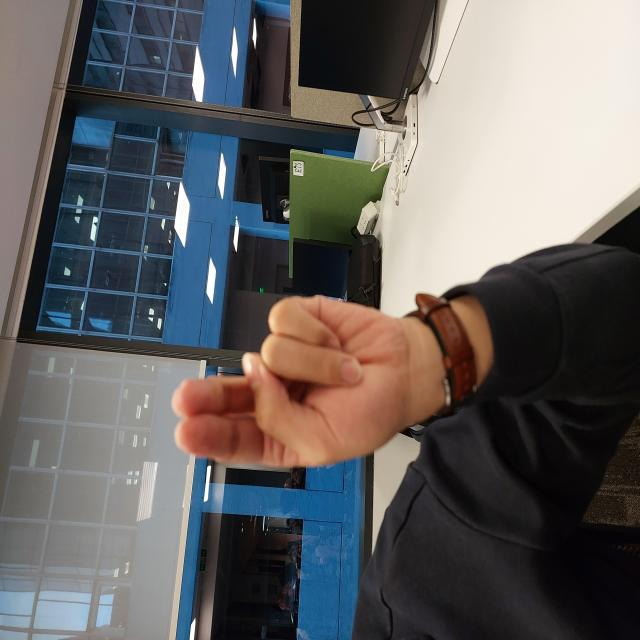N: (170, 170, 346, 406)
